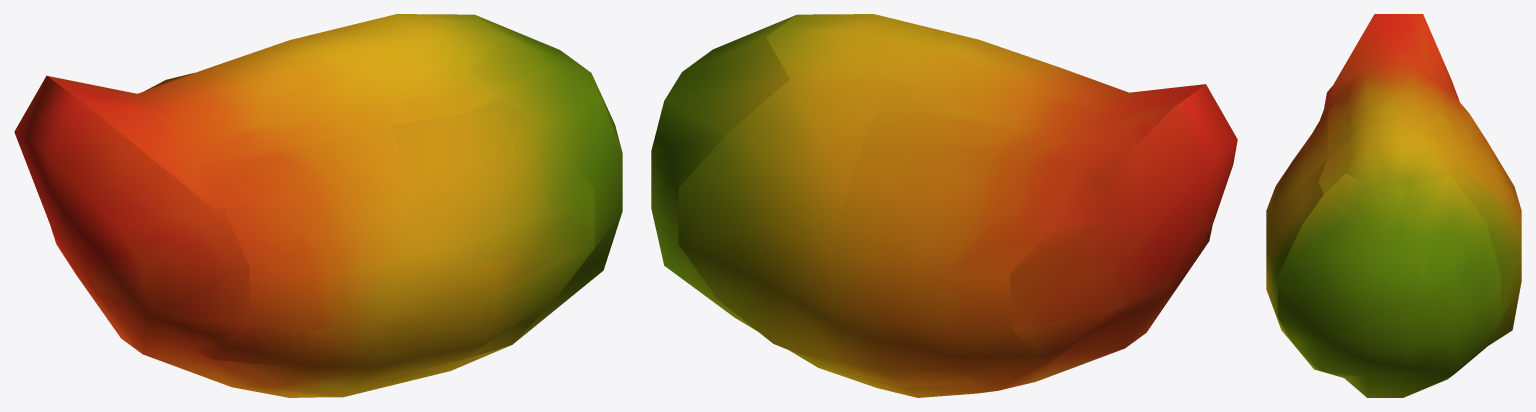
The model's file is mango.obj.
3 views of the same model, side by side, from view 1: azimuth 30°, elevation 25°; view 2: azimuth 150°, elevation 25°; view 3: azimuth 270°, elevation 25° (orthographic). The views are drawn at different scales.
Parts seen in each view (by area): view 1: pCube1; view 2: pCube1; view 3: pCube1.
Boxes of the visible parts, x1,y1,x2,y2 form: pCube1: [14, 14, 622, 397]; pCube1: [651, 14, 1237, 397]; pCube1: [1266, 14, 1521, 397].
Size of the model in its own units: 5.4 by 3.22 by 2.98.
1 material, 1 textured.
